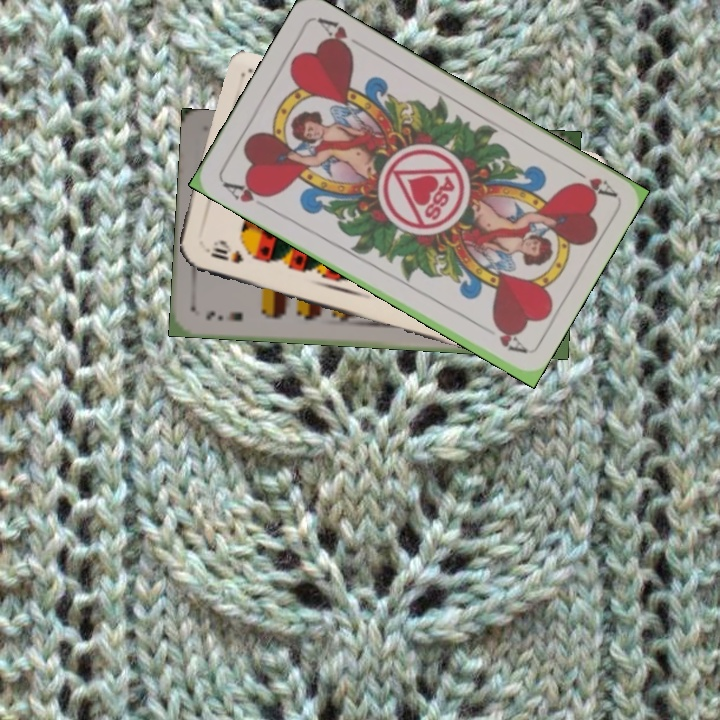E7: (202, 307, 245, 325)
HA: (564, 162, 618, 200), (218, 176, 273, 211)
S10: (201, 243, 246, 266)
